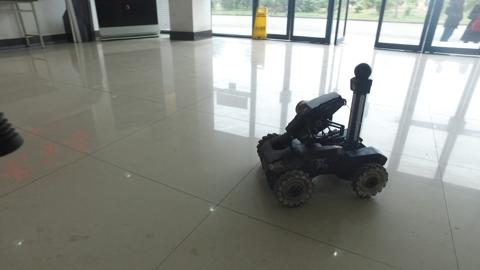chariot: (255, 62, 389, 208)
